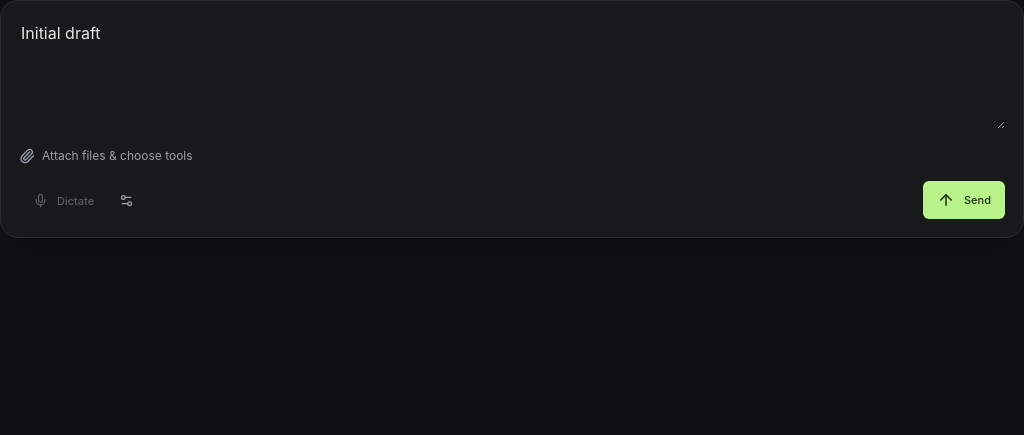
Scenario: explains HTTPS on plain HTTP LAN while offering local file transcription
Click the button named "Dictation options" at (127, 201), box 110,184 -> 143,217
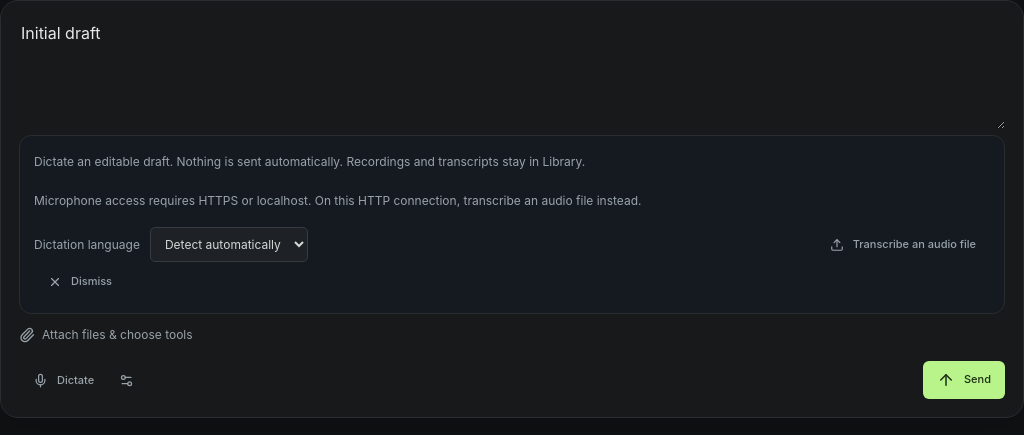
Now the element named "Dictation audio file" is enabled, box 34,148 -> 990,264
Now the text "On this HTTP connection" is shown, box 34,193 -> 642,208
